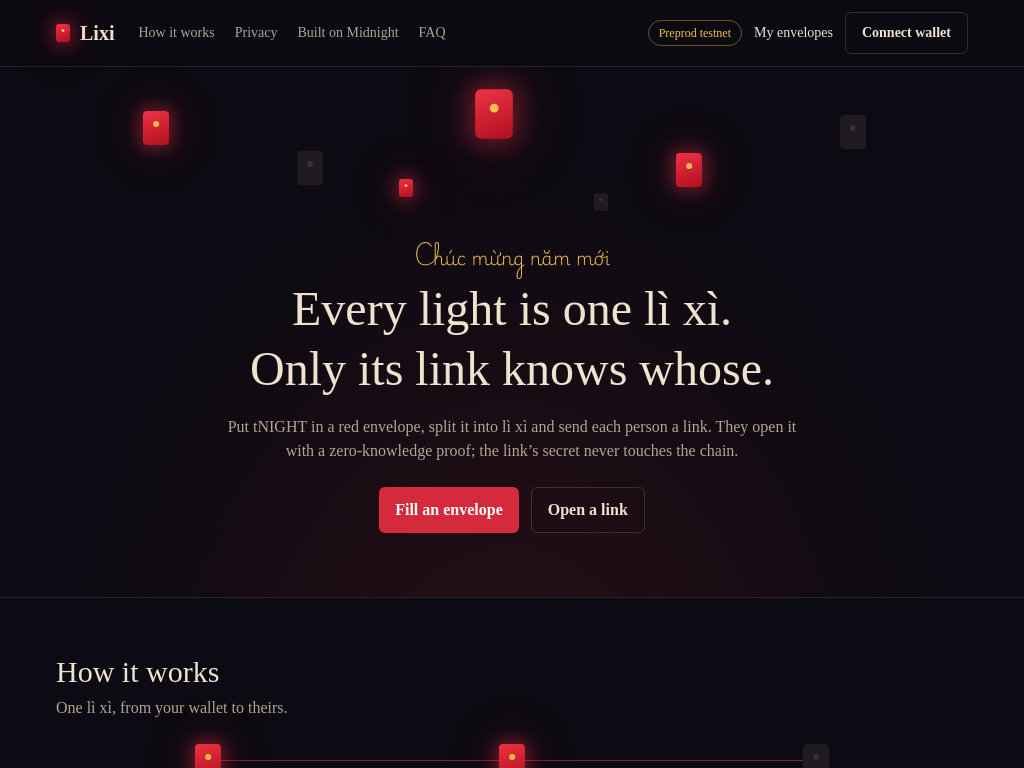
it: claim page › does not reopen the header wallet panel after visiting a page that hid it
The image size is (1024, 768).
Click the button "Connect wallet" at (906, 33), box [845, 12, 968, 54]
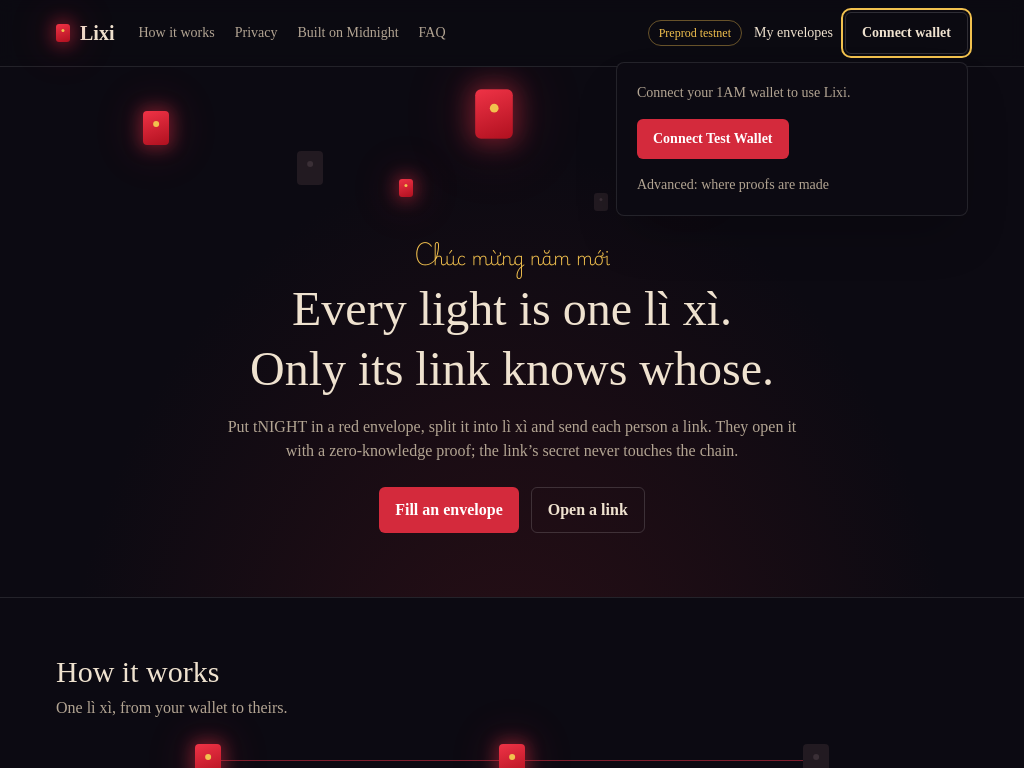
Now the text "Connect your 1AM wallet to use Lixi." is shown, box [637, 85, 850, 100]
Click the link "Fill an envelope" at (449, 510), box [379, 487, 519, 533]
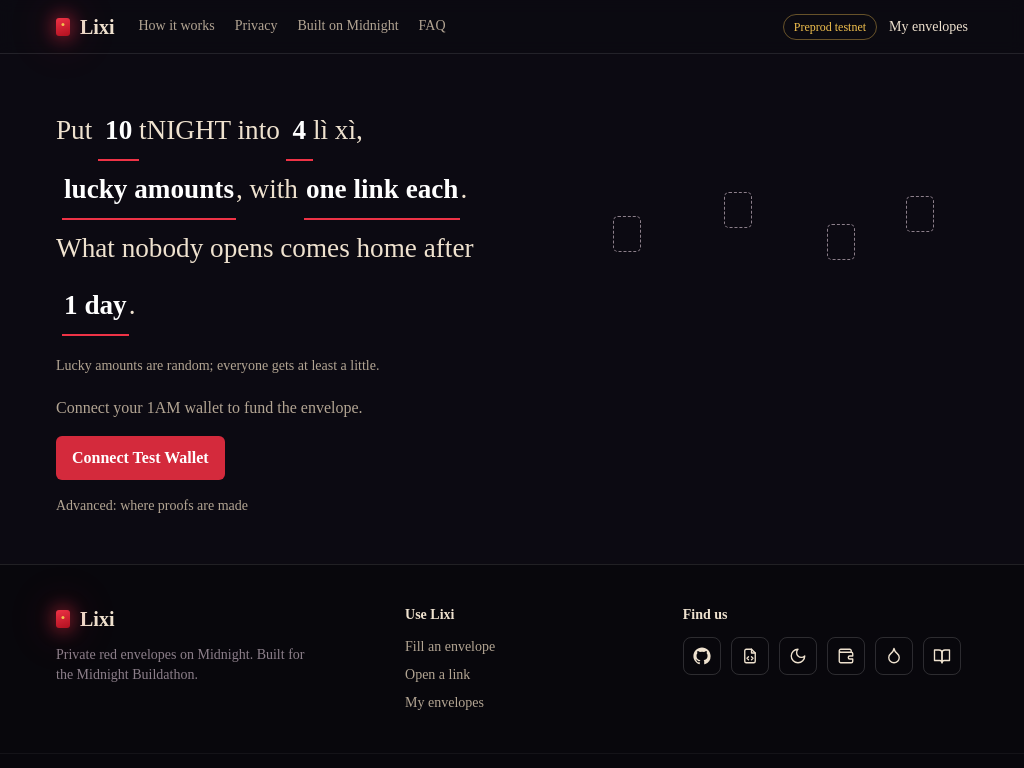
Now the field named "Total tNIGHT" is shown, box [98, 102, 139, 161]
Click the link "Lixi" next to "How it works" at (85, 26), box [56, 12, 114, 40]
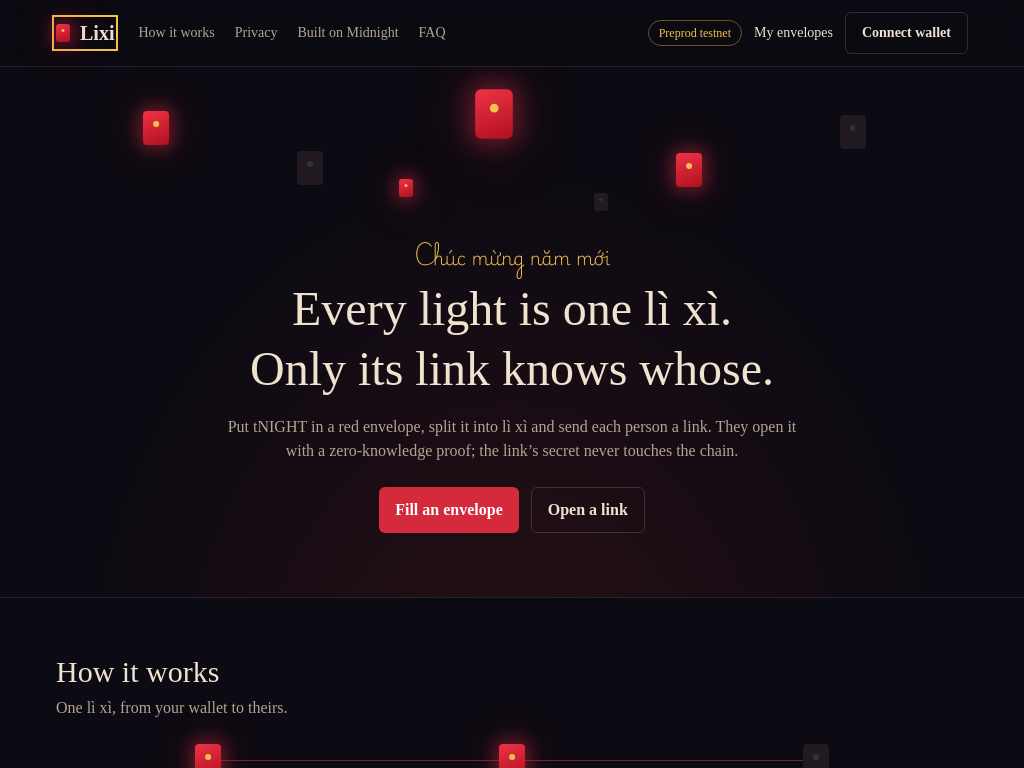
Expected: the text "Connect your 1AM wallet to use Lixi." is not shown
Now the heading "Every light is one lì xì.Only its link knows whose." is shown, box [250, 282, 774, 395]
